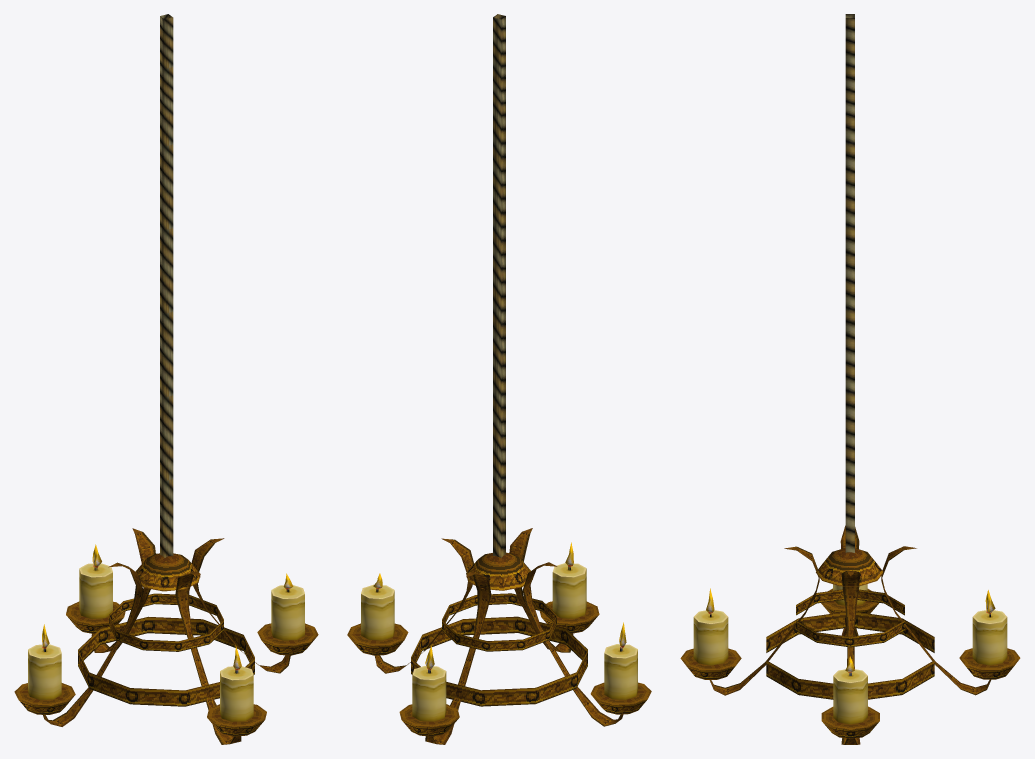
Rendered from INST_BE_LIGHTFIXTURE.fbx.
The picture shows the model from 3 angles, left to right: view 1: azimuth 30°, elevation 25°; view 2: azimuth 150°, elevation 25°; view 3: azimuth 270°, elevation 25°; orthographic projection.
Parts seen in each view (by area): view 1: INST_BE_LIGHTFIXTURE; view 2: INST_BE_LIGHTFIXTURE; view 3: INST_BE_LIGHTFIXTURE.
Part boxes in pixels (x1,y1,x2,y2): INST_BE_LIGHTFIXTURE: (14, 14, 318, 744); INST_BE_LIGHTFIXTURE: (347, 14, 651, 744); INST_BE_LIGHTFIXTURE: (680, 14, 1020, 744).
Size of the model in its own units: 6385 by 13994 by 6385.
Materials: 4 (4 with a texture image).
